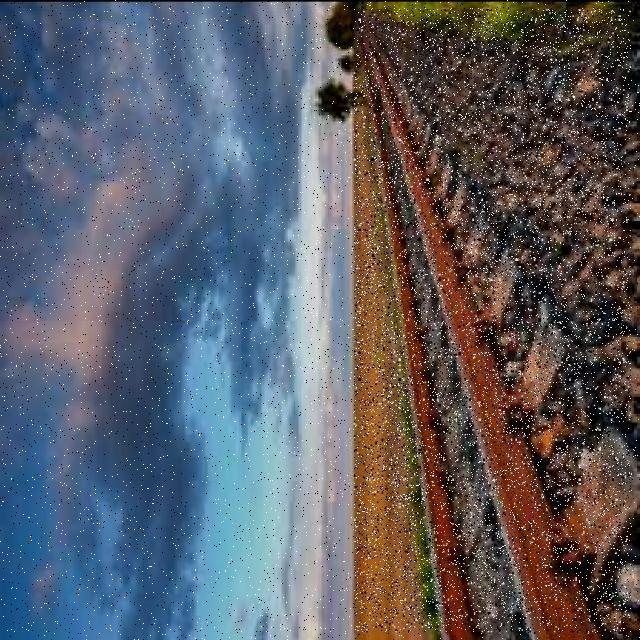rail: (354, 9, 631, 632)
